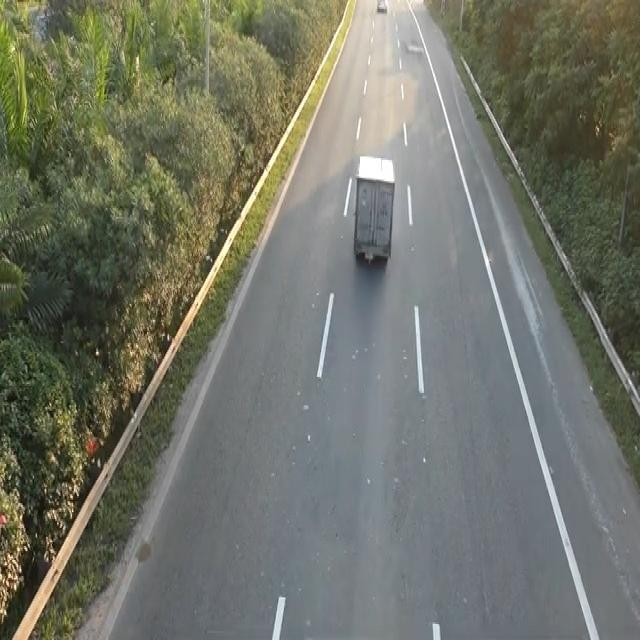minivan: (351, 151, 397, 267)
